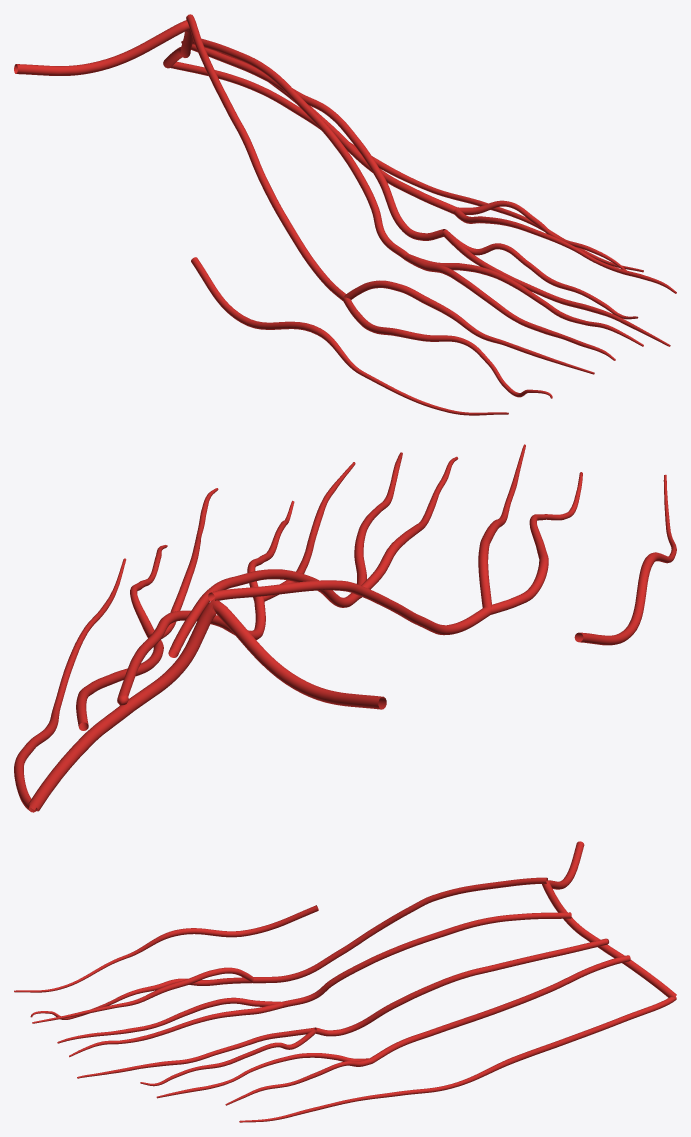
The model's file is circulatorio-plantar-venous-arch-l.glb.
The picture shows the model from 3 angles, top to bottom: view 1: azimuth 30°, elevation 25°; view 2: azimuth 150°, elevation 25°; view 3: azimuth 270°, elevation 25°; orthographic projection. The views are drawn at different scales.
Visible parts, largest first — view 1: Plantar digital veins.l, Plantar metatarsal veins.l, Plantar venous arch.l; view 2: Plantar digital veins.l, Plantar metatarsal veins.l, Plantar venous arch.l; view 3: Plantar digital veins.l, Plantar metatarsal veins.l, Plantar venous arch.l.
Part boxes in pixels (bbox=[...]): Plantar digital veins.l: bbox=[171, 61, 676, 415]; Plantar metatarsal veins.l: bbox=[181, 14, 456, 300]; Plantar venous arch.l: bbox=[14, 20, 193, 75]; Plantar digital veins.l: bbox=[14, 444, 676, 812]; Plantar metatarsal veins.l: bbox=[76, 569, 492, 730]; Plantar venous arch.l: bbox=[28, 598, 386, 811]; Plantar digital veins.l: bbox=[14, 905, 676, 1122]; Plantar metatarsal veins.l: bbox=[252, 877, 630, 1063]; Plantar venous arch.l: bbox=[542, 841, 676, 997].
Bounding box in the file's own units: 0.0852 × 0.0361 × 0.1479.
